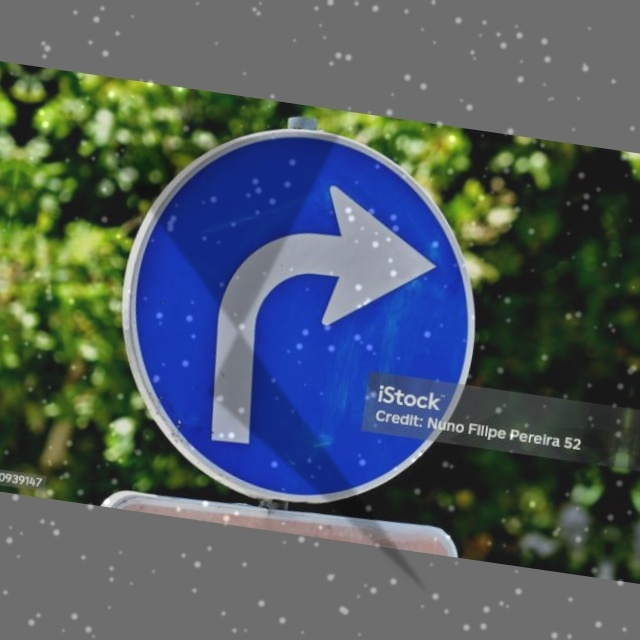Compulsory_Turn_Right_Ahead: (109, 109, 494, 510)
